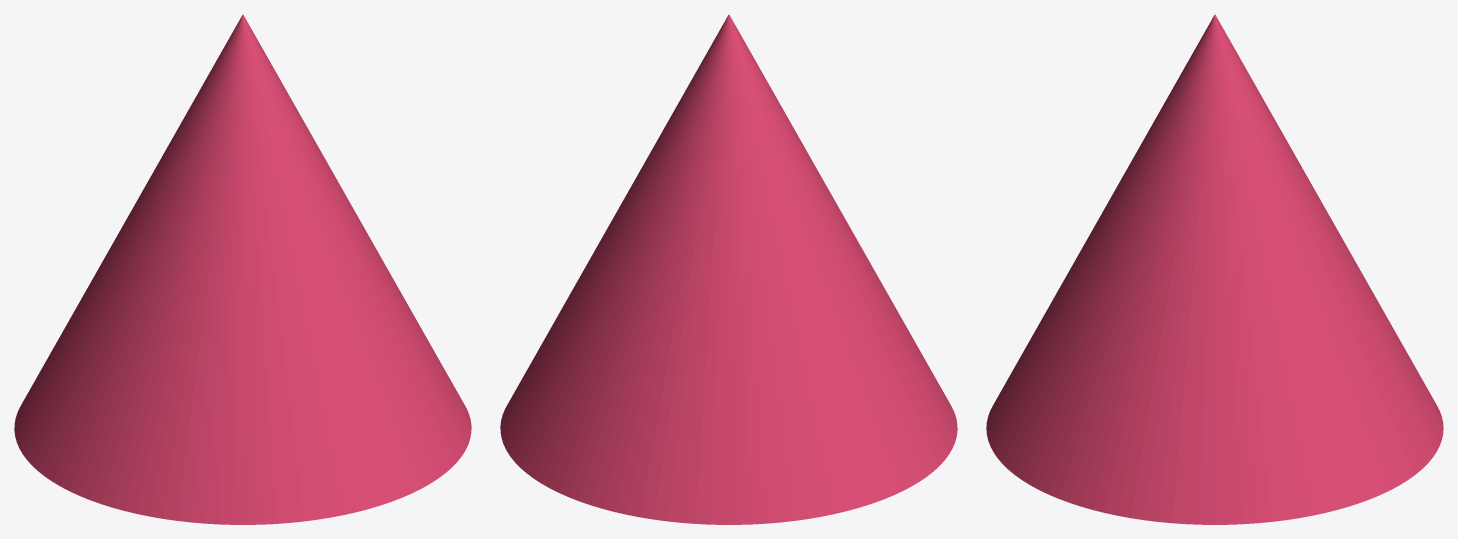
File: Kodari.fbx
3 views of the same model, side by side, from view 1: azimuth 30°, elevation 25°; view 2: azimuth 150°, elevation 25°; view 3: azimuth 270°, elevation 25° (orthographic).
Parts seen in each view (by area): view 1: Cone; view 2: Cone; view 3: Cone.
Part boxes in pixels (x1,y1,x2,y2): Cone: [14, 14, 471, 524]; Cone: [500, 14, 957, 524]; Cone: [986, 14, 1443, 524].
Bounding box in the file's own units: 22.39 × 22.39 × 22.39.
